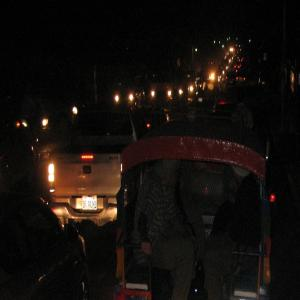Vehicle-registration-plate: (83, 197, 98, 211)
